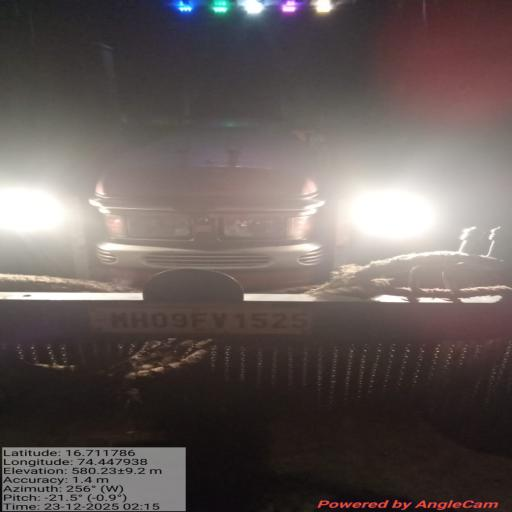number_plate: (89, 303, 346, 340)
